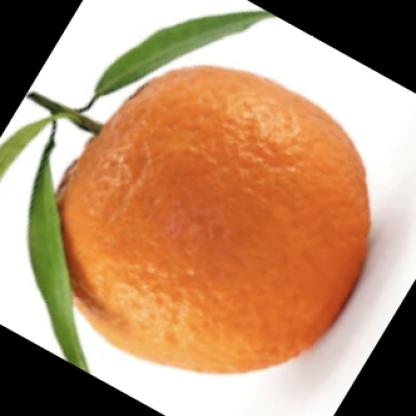fresh: (48, 66, 373, 381)
